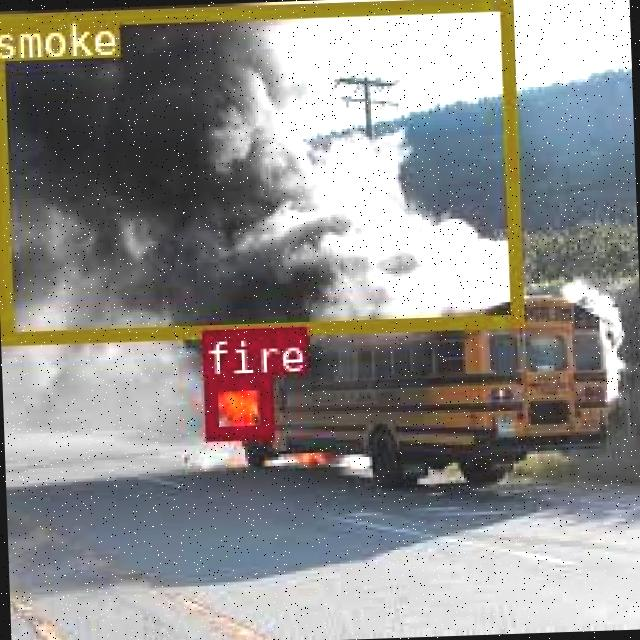fire: (202, 374, 270, 438)
smoke: (0, 0, 519, 341)
